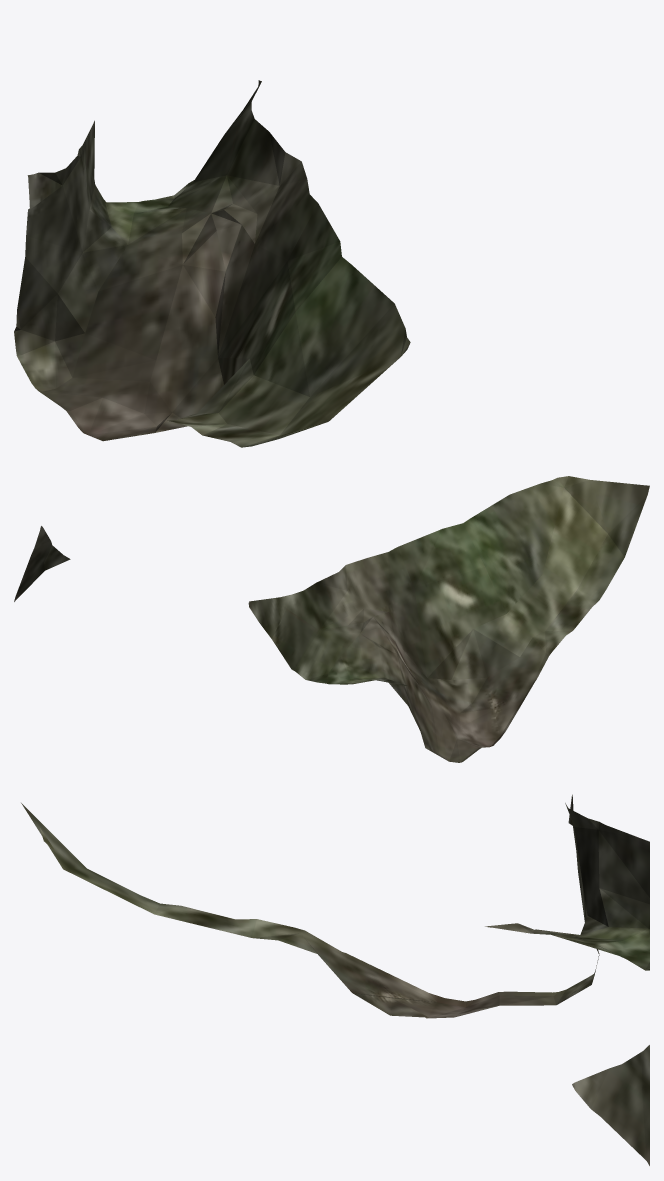
The picture shows the model from 3 angles, top to bottom: view 1: azimuth 30°, elevation 25°; view 2: azimuth 150°, elevation 25°; view 3: azimuth 270°, elevation 25°; orthographic projection. The views are drawn at different scales.
Size of the model in its own units: 2.95 by 1 by 2.7.
1 material, 1 textured.
